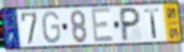7: (20, 11, 39, 46)
8: (69, 9, 89, 44)
E: (90, 7, 115, 45)
G: (41, 11, 62, 45)
P: (120, 7, 142, 44)
T: (143, 7, 161, 40)
